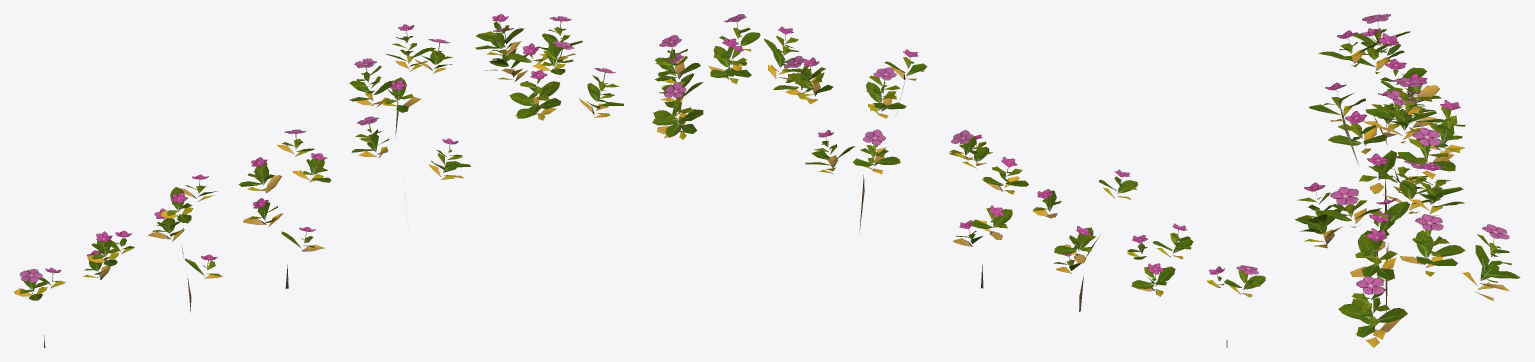
File: periwinkle_plant.glb
3 renders of one model, left to right at view 1: azimuth 30°, elevation 25°; view 2: azimuth 150°, elevation 25°; view 3: azimuth 270°, elevation 25°, orthographic. The views are drawn at different scales.
Visible parts, largest first — view 1: periwinkle_plant_01_LOD0, periwinkle_plant_02_LOD0, periwinkle_plant_03_LOD0, periwinkle_plant_04_LOD0, periwinkle_plant_05_LOD0, periwinkle_plant_06_LOD0; view 2: periwinkle_plant_01_LOD0, periwinkle_plant_02_LOD0, periwinkle_plant_03_LOD0, periwinkle_plant_04_LOD0, periwinkle_plant_05_LOD0, periwinkle_plant_06_LOD0; view 3: periwinkle_plant_01_LOD0, periwinkle_plant_02_LOD0, periwinkle_plant_03_LOD0, periwinkle_plant_04_LOD0, periwinkle_plant_05_LOD0, periwinkle_plant_06_LOD0.
Boxes of the visible parts, x1=… form: periwinkle_plant_01_LOD0: x1=475, y1=14, x2=623, y2=120; periwinkle_plant_02_LOD0: x1=349, y1=24, x2=470, y2=205; periwinkle_plant_03_LOD0: x1=238, y1=129, x2=331, y2=288; periwinkle_plant_04_LOD0: x1=148, y1=174, x2=222, y2=312; periwinkle_plant_05_LOD0: x1=83, y1=230, x2=134, y2=279; periwinkle_plant_06_LOD0: x1=14, y1=267, x2=65, y2=347; periwinkle_plant_01_LOD0: x1=652, y1=14, x2=806, y2=139; periwinkle_plant_02_LOD0: x1=773, y1=49, x2=926, y2=233; periwinkle_plant_03_LOD0: x1=949, y1=130, x2=1028, y2=288; periwinkle_plant_04_LOD0: x1=1032, y1=169, x2=1137, y2=311; periwinkle_plant_05_LOD0: x1=1127, y1=223, x2=1193, y2=296; periwinkle_plant_06_LOD0: x1=1207, y1=265, x2=1265, y2=347; periwinkle_plant_01_LOD0: x1=1295, y1=162, x2=1520, y2=347; periwinkle_plant_02_LOD0: x1=1309, y1=77, x2=1465, y2=312; periwinkle_plant_03_LOD0: x1=1328, y1=90, x2=1427, y2=253; periwinkle_plant_04_LOD0: x1=1318, y1=30, x2=1443, y2=211; periwinkle_plant_05_LOD0: x1=1345, y1=28, x2=1441, y2=109; periwinkle_plant_06_LOD0: x1=1353, y1=14, x2=1410, y2=127.
Bounding box in the file's own units: 1.24 × 0.4107 × 0.3207.
Materials: 1 (1 with a texture image).
